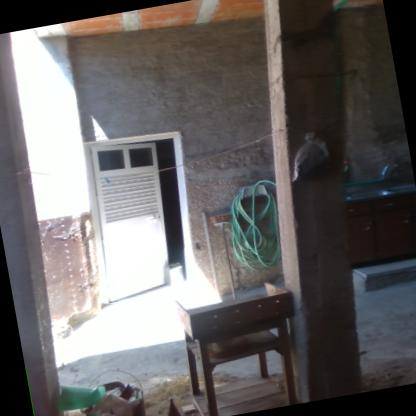semi: (60, 114, 221, 318)
